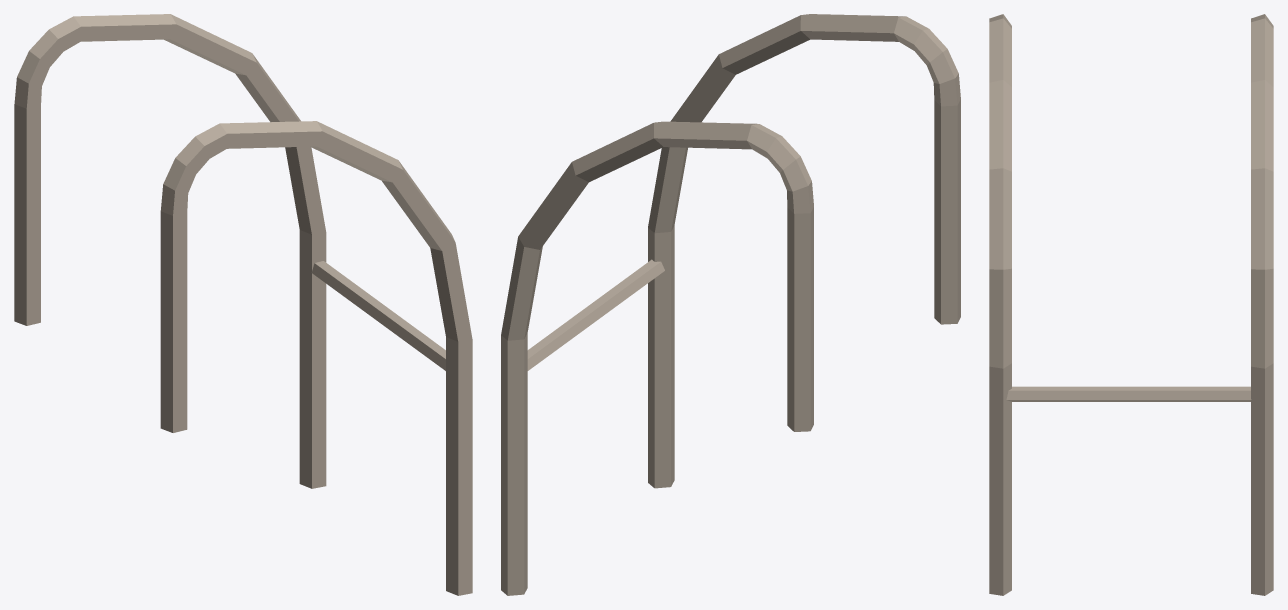
File: Pool_Stairs.fbx
The picture shows the model from 3 angles, left to right: view 1: azimuth 30°, elevation 25°; view 2: azimuth 150°, elevation 25°; view 3: azimuth 270°, elevation 25°; orthographic projection. The views are drawn at different scales.
Visible parts, largest first — view 1: Pool_Stair; view 2: Pool_Stair; view 3: Pool_Stair.
Part boxes in pixels (x1=…): Pool_Stair: x1=14, y1=14, x2=472, y2=595; Pool_Stair: x1=501, y1=14, x2=960, y2=595; Pool_Stair: x1=989, y1=14, x2=1273, y2=595.
Size of the model in its own units: 63.29 by 103 by 56.51.
